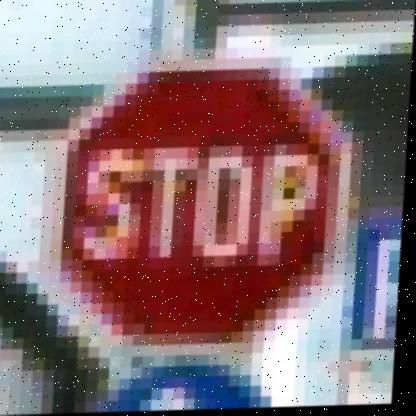Stop Sign: (40, 52, 370, 358)
